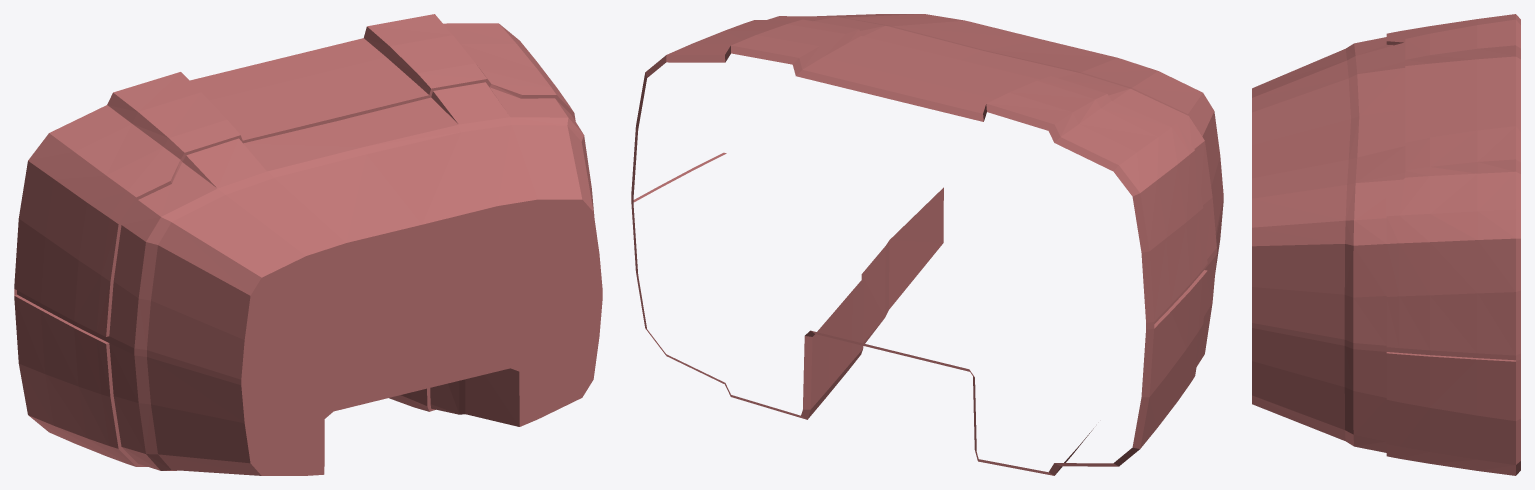
File: robot__visual__rx78_Null_018_link__rx78_object_084-lib.dae_1.glb
3 views of the same model, side by side, from view 1: azimuth 30°, elevation 25°; view 2: azimuth 150°, elevation 25°; view 3: azimuth 270°, elevation 25° (orthographic). The views are drawn at different scales.
Parts seen in each view (by area): view 1: world; view 2: world; view 3: world.
Boxes of the visible parts, box(x1,y1,x2,y2) form: world: box(14, 14, 602, 475); world: box(631, 14, 1223, 475); world: box(1252, 14, 1520, 475).
Size of the model in its own units: 3.13 by 2.06 by 1.58.
